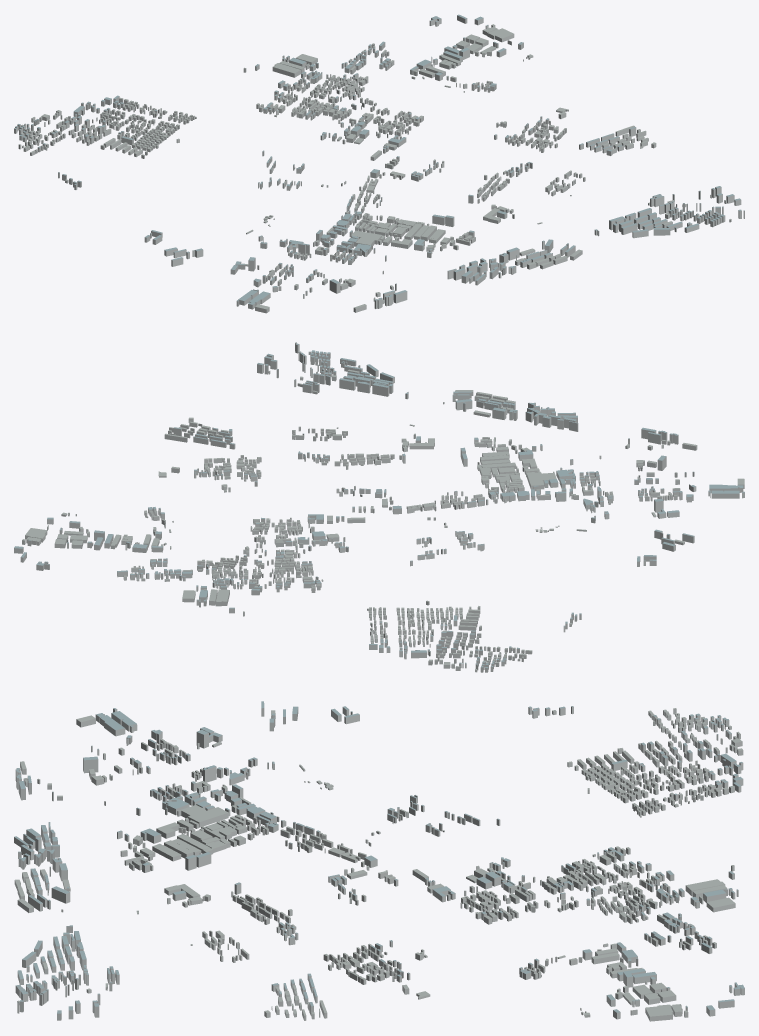
The model's file is far.glb.
3 renders of one model, top to bottom at view 1: azimuth 30°, elevation 25°; view 2: azimuth 150°, elevation 25°; view 3: azimuth 270°, elevation 25°, orthographic. The views are drawn at different scales.
Size of the model in its own units: 2129 by 44.01 by 2110.
